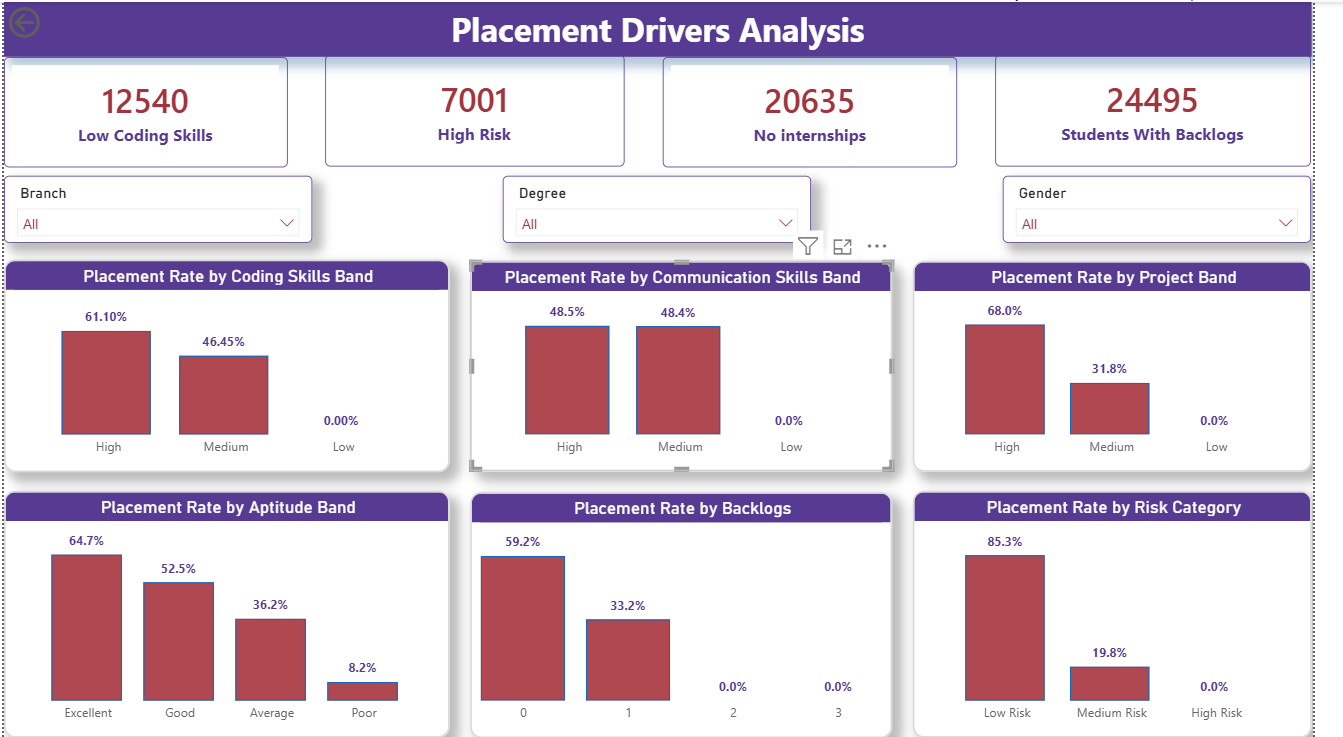

What the dashboard file says about the page in this screenshot:
{"tool":"powerbi","page":{"name":"Page 2","canvas":[1280,720],"ordinal":1},"visuals":[{"type":"cardVisual","fields":{"Data":["student_data.High Risk"]},"box":[314.7,51.9,292.4,109.3],"z":0},{"type":"cardVisual","fields":{"Data":["student_data.Students With Backlogs"]},"box":[970.1,51.9,308.8,109.3],"z":1000},{"type":"clusteredColumnChart","fields":{"Category":["student_data.Coding Skills Band"],"Y":["student_data.Placement Rate"]},"box":[0,251.4,435.9,207.7],"z":2000},{"type":"columnChart","fields":{"Y":["student_data.Placement Rate"],"Category":["student_data.Communication Skills Band"]},"box":[456.4,252.8,412.6,206.3],"z":3000},{"type":"clusteredColumnChart","fields":{"Y":["student_data.Placement Rate"],"Category":["student_data.Backlogs"]},"box":[456.4,479.6,412.6,240.5],"z":4000},{"type":"slicer","fields":{"Values":["student_data.Branch"]},"box":[0,169.4,302,65.6],"z":5000},{"type":"slicer","fields":{"Values":["student_data.Degree"]},"box":[488.5,169.4,302,65.6],"z":6000},{"type":"slicer","fields":{"Values":["student_data.Gender"]},"box":[976.9,169.4,302,65.6],"z":7000},{"type":"textbox","box":[0,0,1278.9,53.3],"z":8000},{"type":"clusteredColumnChart","fields":{"Category":["student_data.Aptitude Band"],"Y":["student_data.Placement Rate"]},"box":[0,478.2,435.9,241.8],"z":9000},{"type":"actionButton","box":[0,0,100,40],"z":10000},{"type":"clusteredColumnChart","fields":{"Y":["student_data.Placement Rate"],"Category":["student_data.Project Band"]},"box":[889.2,252.8,390.8,206.3],"z":11000},{"type":"clusteredColumnChart","fields":{"Y":["student_data.Placement Rate"],"Category":["student_data.Risk Category"]},"box":[889.2,478.2,390.8,241.8],"z":12000},{"type":"cardVisual","fields":{"Data":["student_data.Low Coding Skills"]},"box":[0,53.3,277.4,107.9],"z":13000},{"type":"cardVisual","fields":{"Data":["student_data.No internships"]},"box":[644.5,53.3,288.3,107.9],"z":14000}]}

Visuals, with their boxes in screenshot pixels (x1, y1, x2, y2), scaled from the page's 1280x720 canvas onto the 1343x737 screenshot:
cardVisual - student_data.High Risk: 330,53,637,165
cardVisual - student_data.Students With Backlogs: 1018,53,1342,165
clusteredColumnChart - student_data.Coding Skills Band x student_data.Placement Rate: 0,257,457,470
columnChart - student_data.Placement Rate x student_data.Communication Skills Band: 479,259,912,470
clusteredColumnChart - student_data.Placement Rate x student_data.Backlogs: 479,491,912,736
slicer - student_data.Branch: 0,173,317,241
slicer - student_data.Degree: 513,173,829,241
slicer - student_data.Gender: 1025,173,1342,241
textbox: 0,0,1342,55
clusteredColumnChart - student_data.Aptitude Band x student_data.Placement Rate: 0,489,457,736
actionButton: 0,0,105,41
clusteredColumnChart - student_data.Placement Rate x student_data.Project Band: 933,259,1342,470
clusteredColumnChart - student_data.Placement Rate x student_data.Risk Category: 933,489,1342,736
cardVisual - student_data.Low Coding Skills: 0,55,291,165
cardVisual - student_data.No internships: 676,55,979,165
